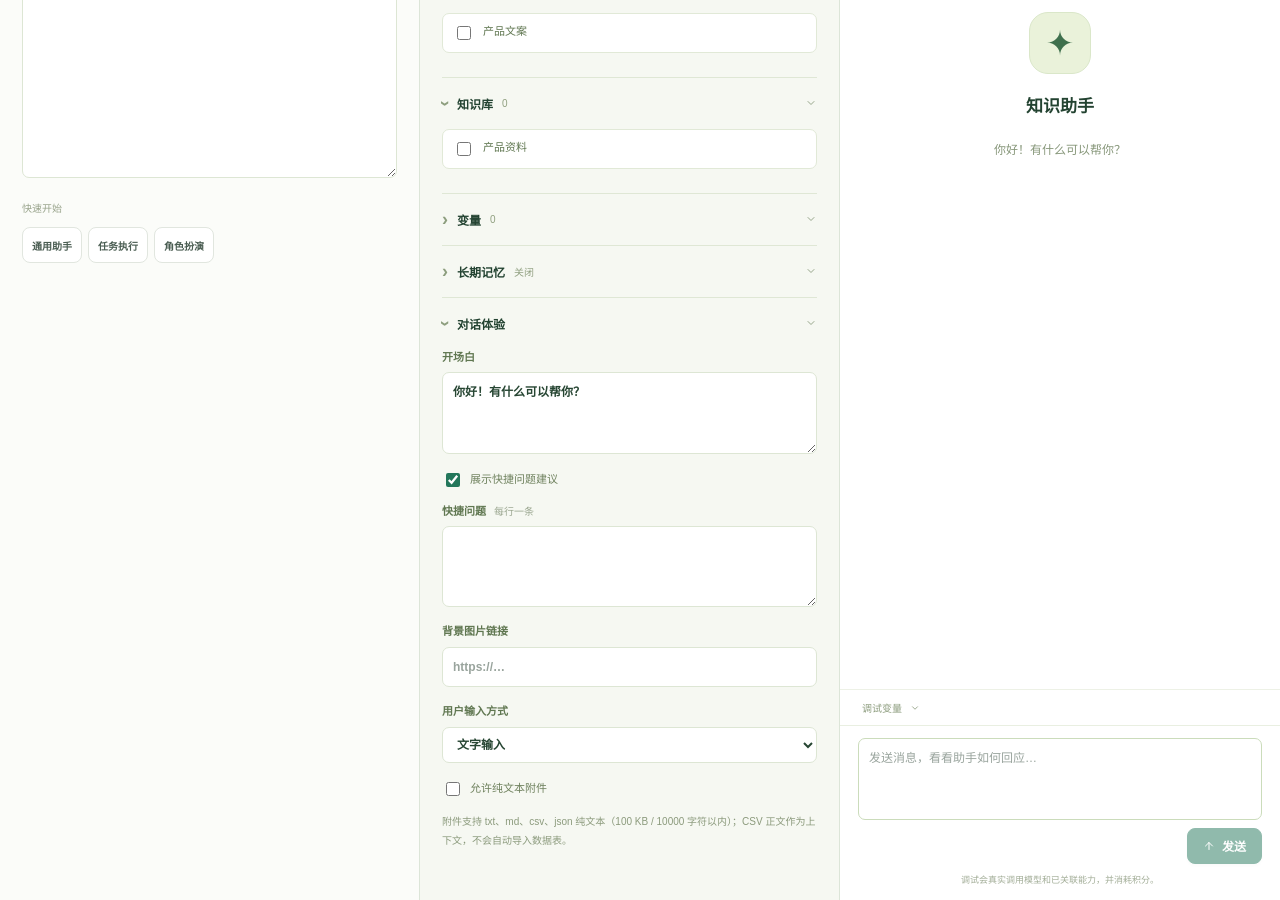
Test case: 停止按钮终止当前请求并保留明确反馈
(page scrolled)
Type "稍后停止" into the text box named "调试消息".
click(1060, 779); type("稍后停止")  # box [858,738,1262,820]
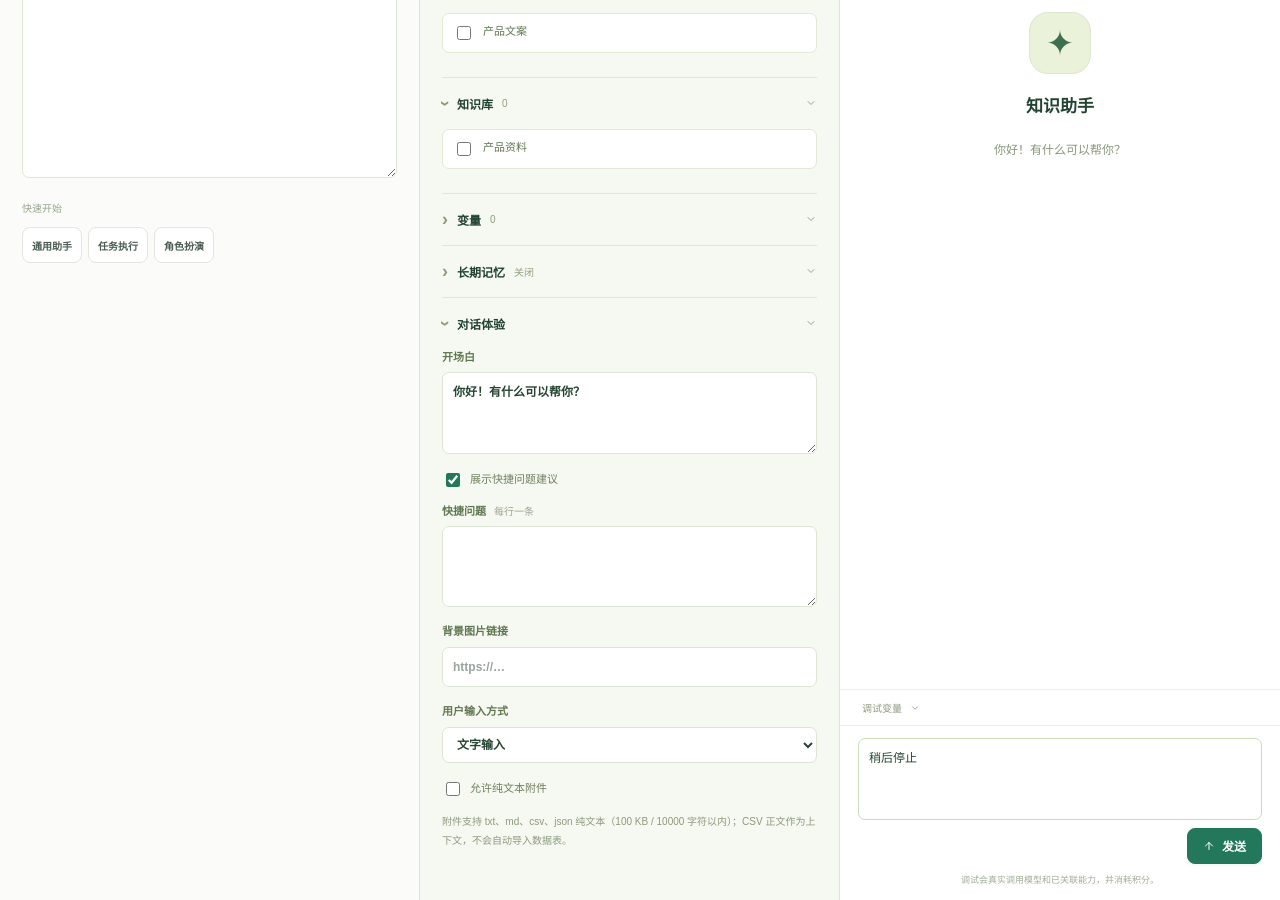
Click the button "发送".
click(1224, 846)  # box [1187,828,1262,864]
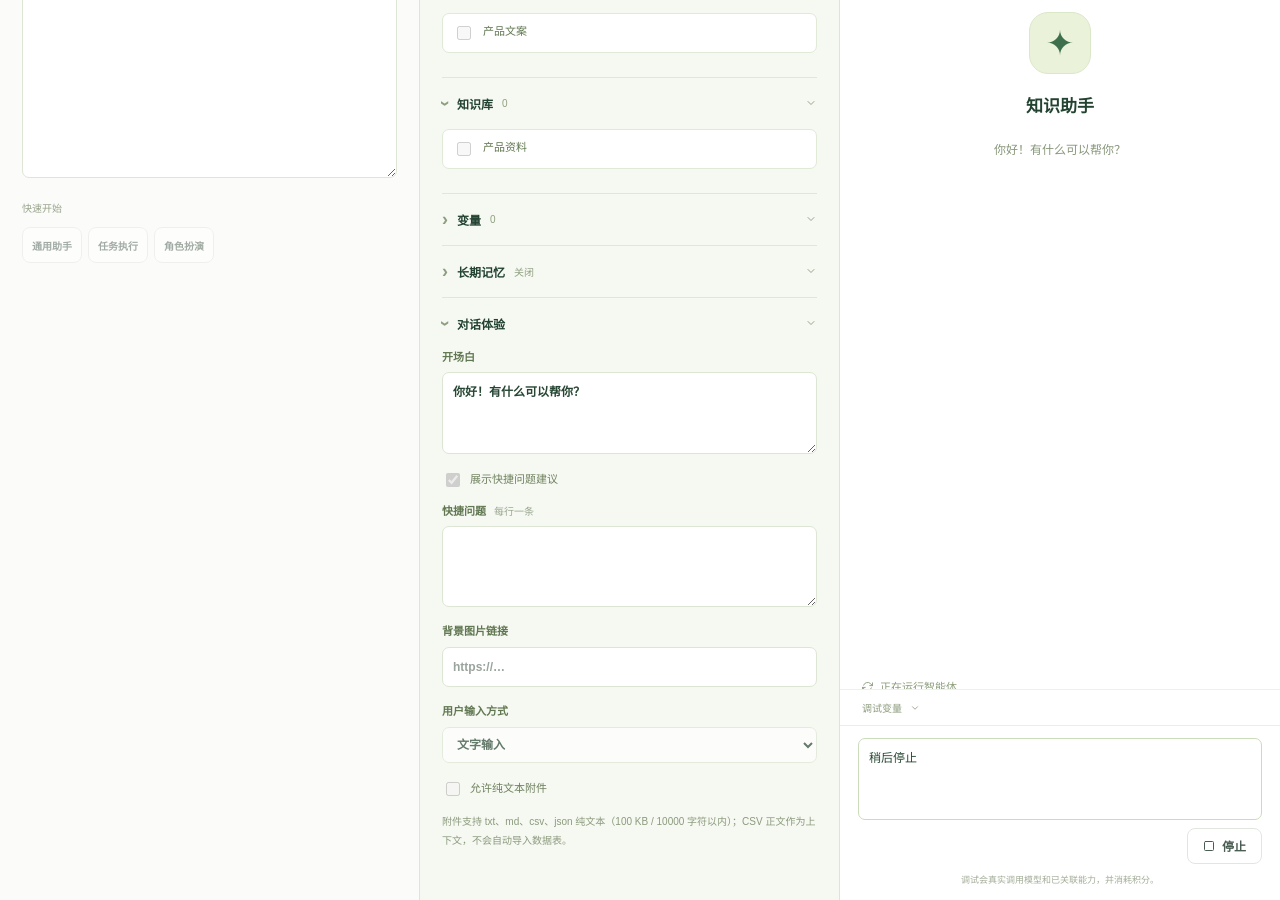
Click the button "停止".
click(1224, 846)  # box [1187,828,1262,864]
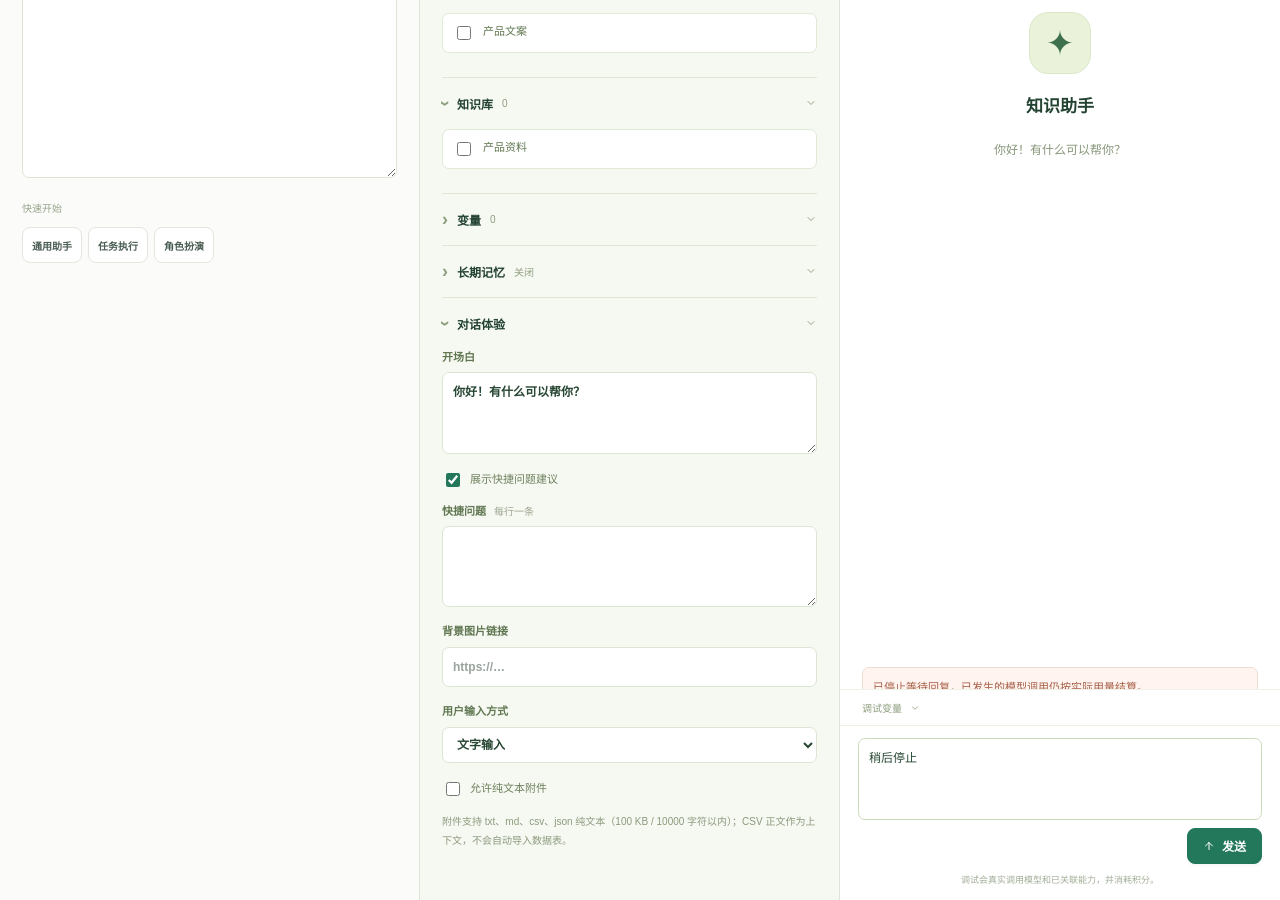
Check: the message shows "已停止等待回复", box [873,682,1148,690]
